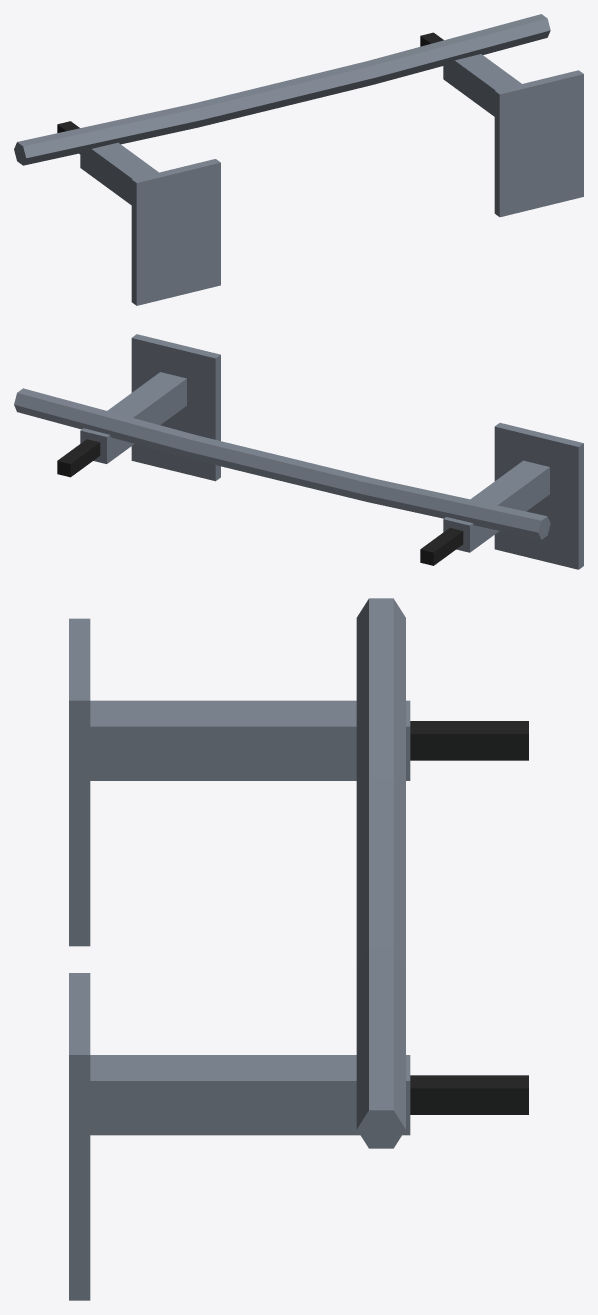
File: chin-up bar.fbx
The picture shows the model from 3 angles, top to bottom: view 1: azimuth 30°, elevation 25°; view 2: azimuth 150°, elevation 25°; view 3: azimuth 270°, elevation 25°; orthographic projection. The views are drawn at different scales.
Parts seen in each view (by area): view 1: chin-up bar; view 2: chin-up bar; view 3: chin-up bar.
Part boxes in pixels (x1,y1,x2,y2): chin-up bar: (14, 14, 583, 305); chin-up bar: (14, 334, 583, 569); chin-up bar: (69, 598, 528, 1300).
Size of the model in its own units: 200 by 44.75 by 75.91.
